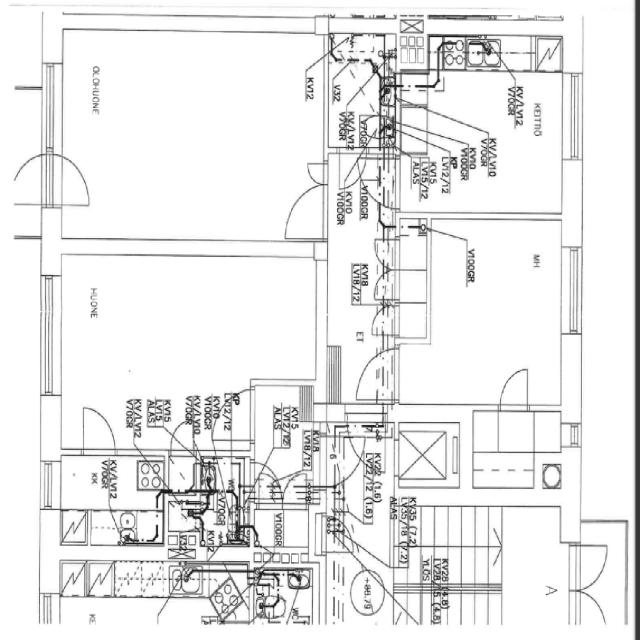door: (282, 175, 326, 243), (75, 400, 118, 457), (568, 539, 610, 595), (56, 152, 94, 209), (495, 362, 534, 416), (10, 150, 46, 206), (356, 351, 394, 402), (571, 588, 609, 632), (305, 159, 327, 187), (363, 177, 384, 203), (348, 433, 366, 459)
window: (35, 271, 64, 401), (38, 60, 67, 159), (559, 243, 587, 341), (560, 69, 587, 165), (37, 456, 63, 514), (245, 387, 258, 442), (202, 540, 225, 559)
zone: (58, 28, 322, 245), (47, 253, 309, 449), (398, 48, 570, 216), (56, 451, 168, 562), (499, 503, 572, 632), (470, 408, 566, 492), (0, 85, 45, 219), (330, 35, 382, 150), (164, 491, 241, 553), (250, 497, 320, 563), (251, 384, 309, 461), (396, 423, 456, 487), (254, 568, 314, 623), (312, 432, 342, 488)
